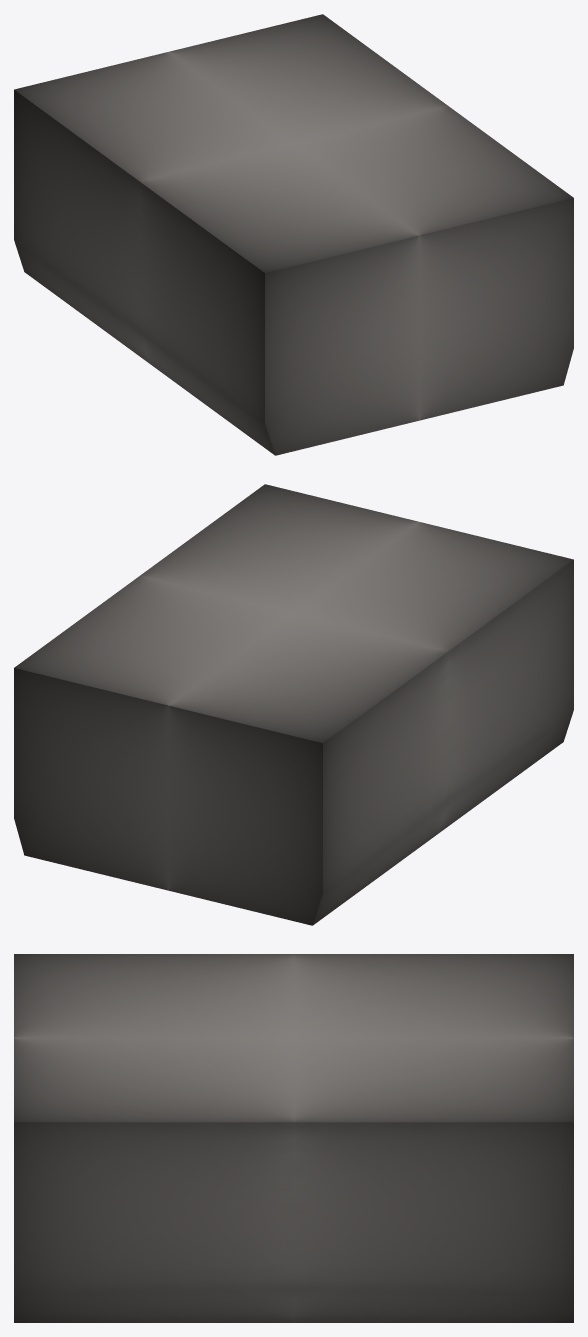
File: wall.fbx
The picture shows the model from 3 angles, top to bottom: view 1: azimuth 30°, elevation 25°; view 2: azimuth 150°, elevation 25°; view 3: azimuth 270°, elevation 25°; orthographic projection. The views are drawn at different scales.
Parts seen in each view (by area): view 1: Object001; view 2: Object001; view 3: Object001.
Part boxes in pixels (left/top/right/bottom): Object001: left=14, top=14, right=573, bottom=455; Object001: left=14, top=484, right=573, bottom=925; Object001: left=14, top=954, right=573, bottom=1322.
Size of the model in its own units: 35 by 20.03 by 49.26.
Materials: 1 (1 with a texture image).
